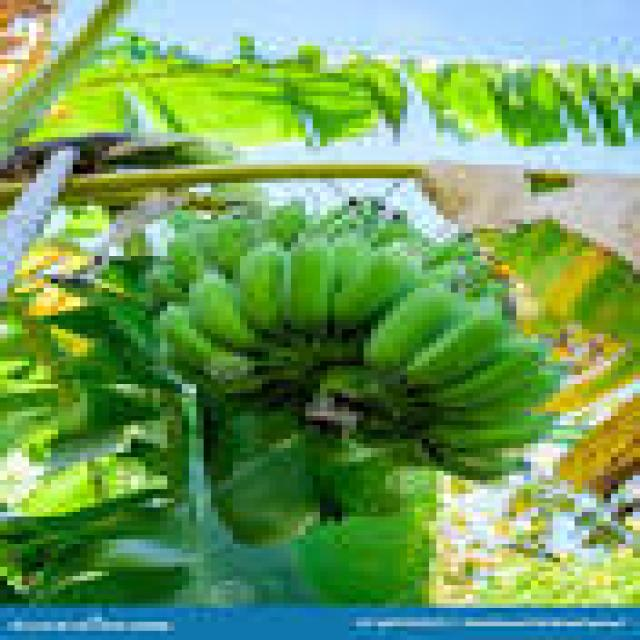banana: (211, 435, 319, 543), (364, 284, 465, 370), (430, 334, 545, 406), (408, 302, 509, 383), (335, 243, 421, 329), (451, 366, 567, 420), (160, 307, 247, 379), (190, 270, 261, 351), (284, 238, 334, 333), (422, 416, 552, 452), (240, 243, 290, 333), (197, 215, 254, 274), (430, 448, 523, 479), (262, 202, 312, 246), (335, 234, 370, 292), (168, 234, 203, 287), (146, 266, 189, 306)
